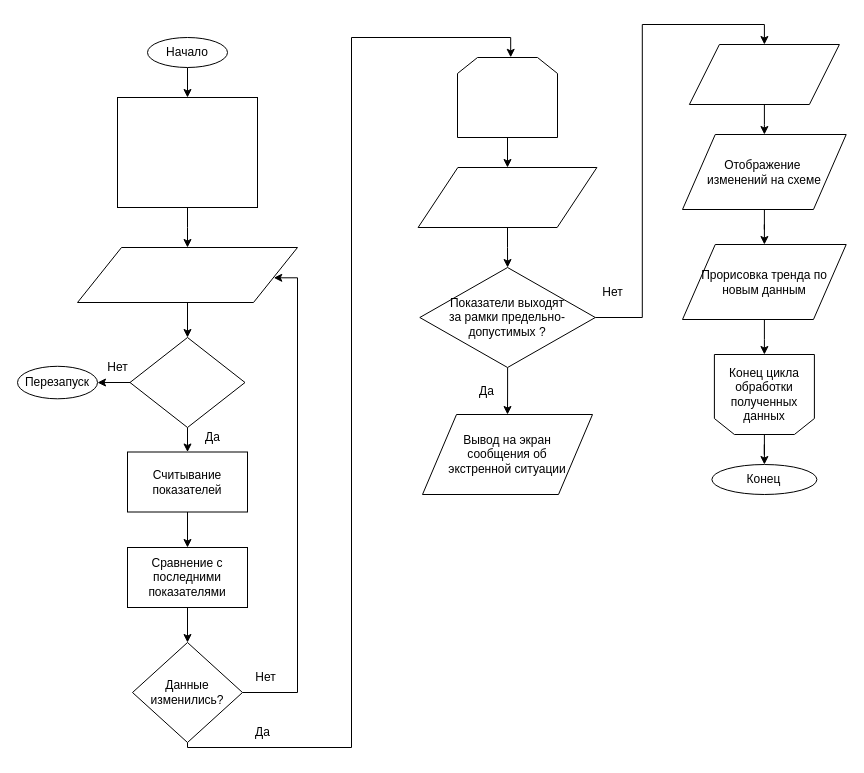
The diagram is 864 pixels wide and 773 high, and some of its shapes have lost their labels. Each missing label, with the box of its shape:
Запись изменений в Лог-файл: (688, 44, 839, 104)
Запрос контроллеру для получения показателей с датчиков: (76, 246, 298, 302)
Изменение существующих данных на актуальные: (417, 166, 597, 228)
Ответ получен?: (129, 336, 245, 428)
Считывание параметров настроек (предельные и допустимые значения показателей): (116, 96, 258, 208)
Цикл обработки полученных данных: (456, 56, 558, 138)
